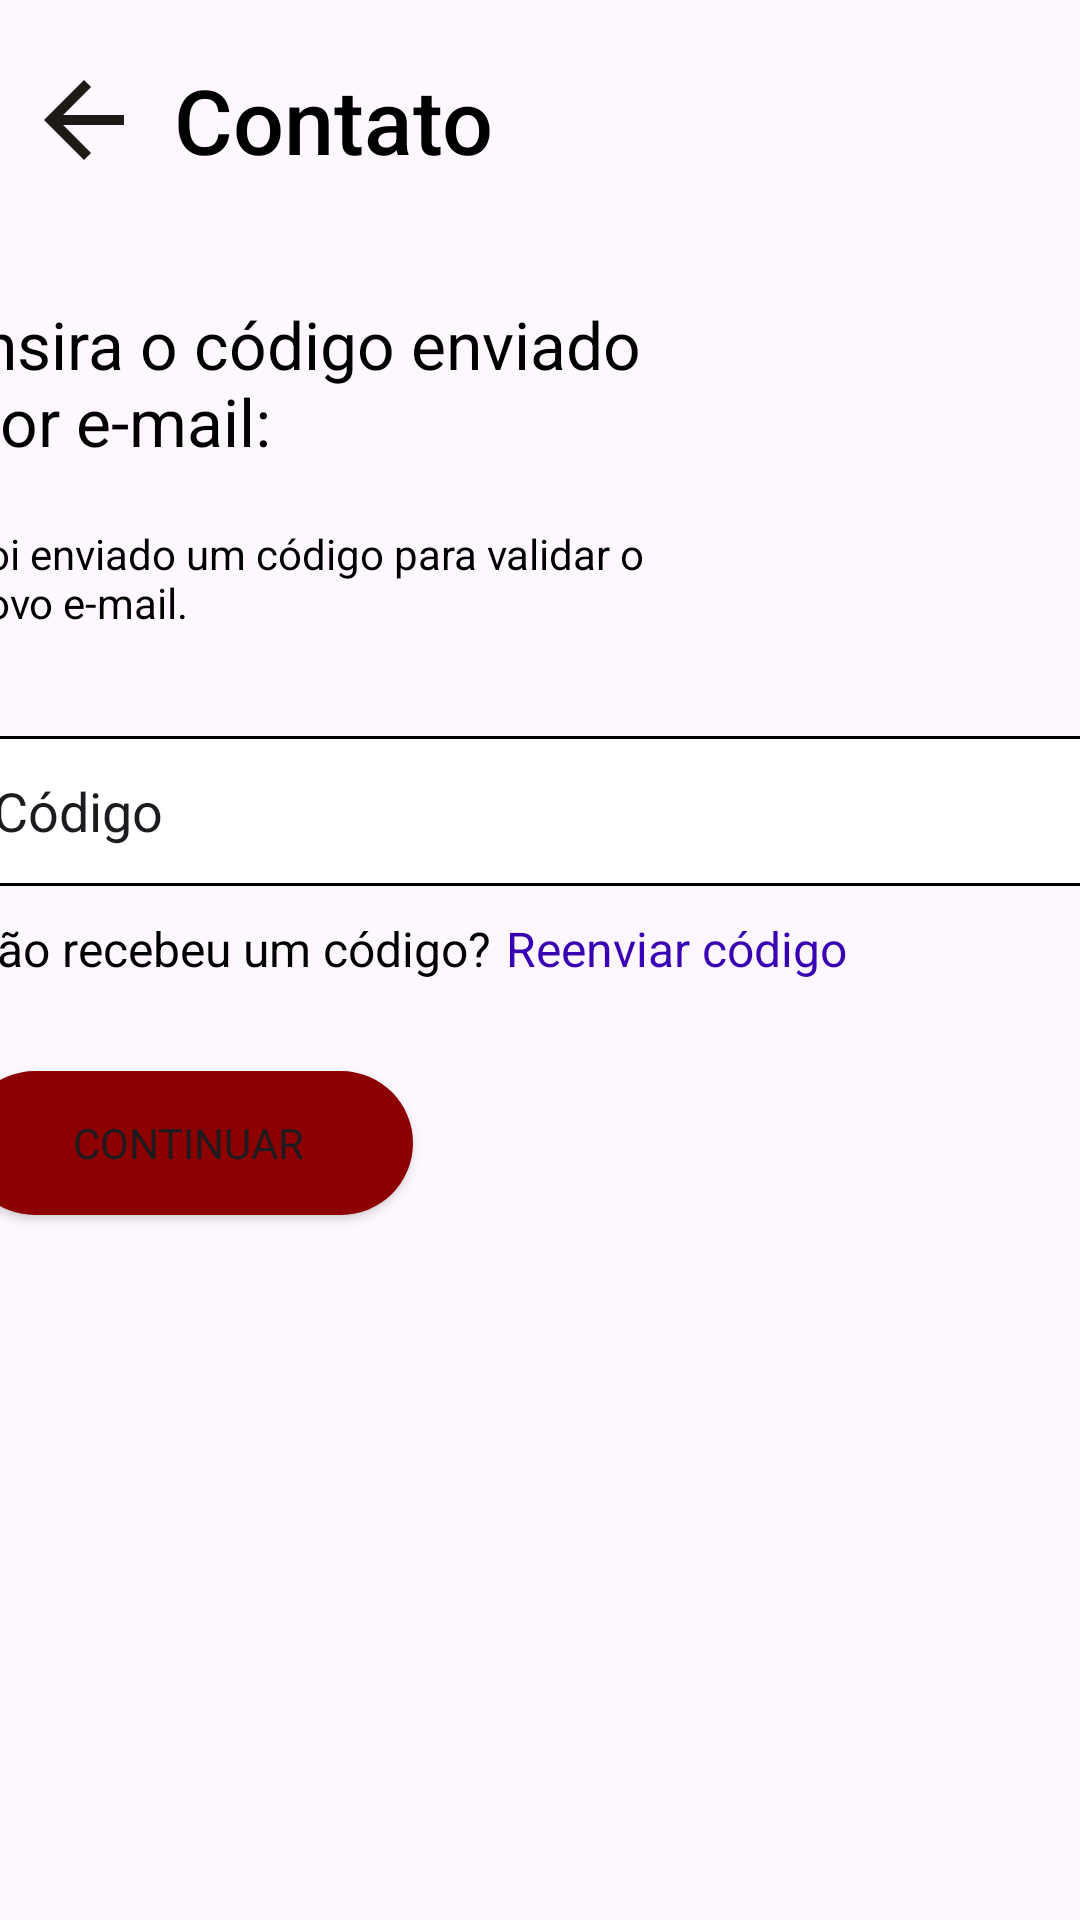

Screen size 1080px×1920px. Icon name, then its box in pixels as (x1, y1, x2, y2):
seta preta voltar: (44, 80, 124, 160)
